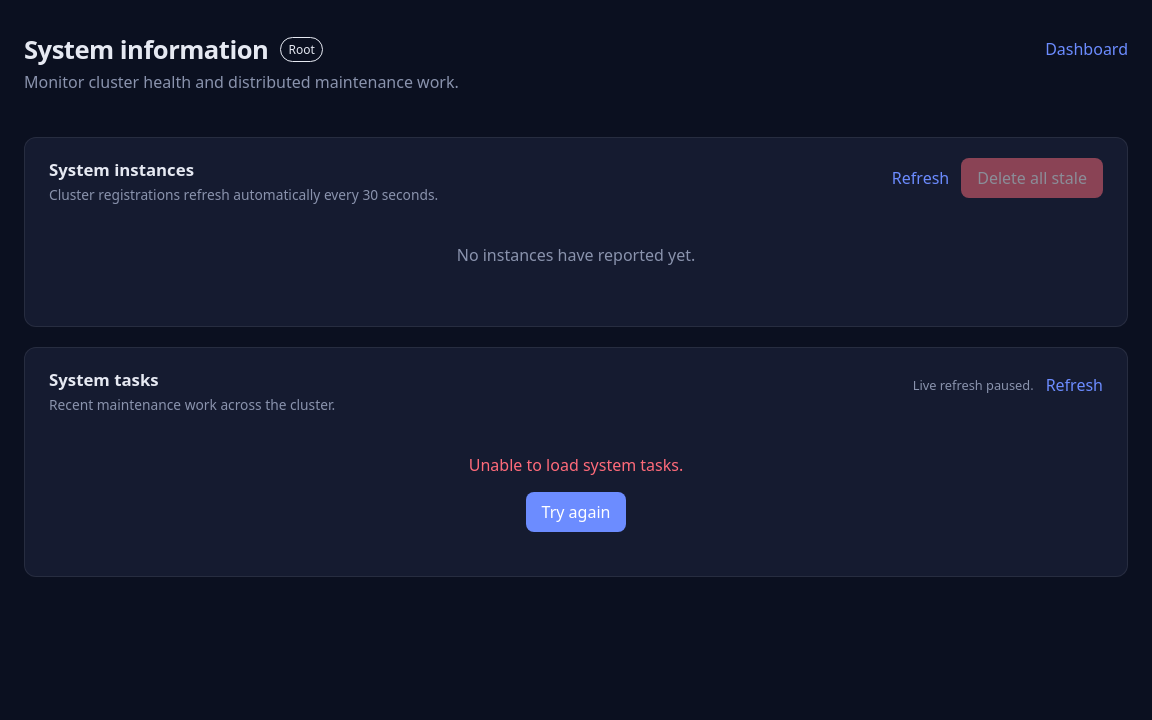
Scenario: SystemInfoView › shows independent empty/error states, redacts failures, and retries only the failed panel
The width and height of the screenshot is (1152, 720).
Expected: the text "No instances have reported yet." is shown, [457,244,695,266]
Expected: the text "Unable to load system tasks." is shown, [469,454,683,476]
Click the button "Try again" at coordinates (576, 512), box [526,492,626,532]
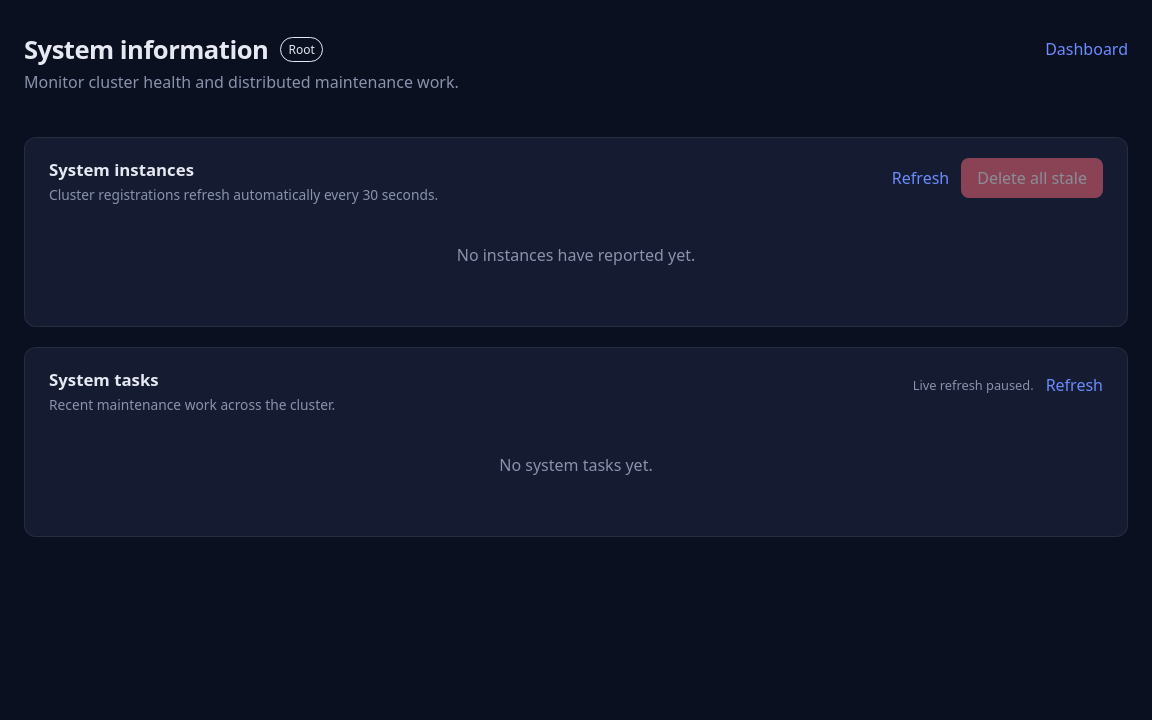
Expected: the text "No system tasks yet." is shown, [499,454,653,476]
